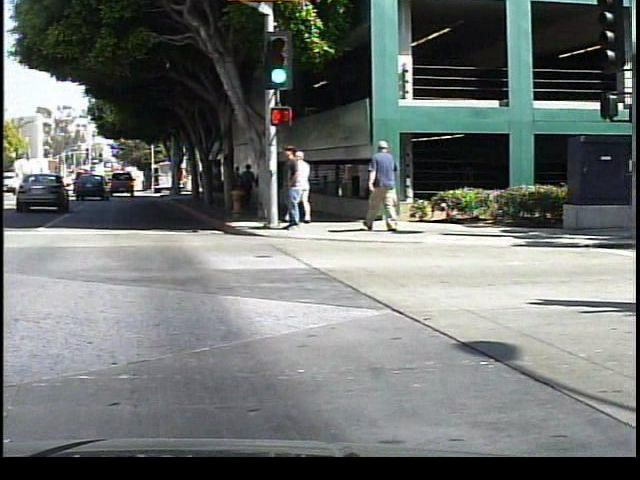person: (358, 136, 406, 234), (276, 143, 306, 235), (289, 145, 320, 223), (240, 161, 257, 208)
